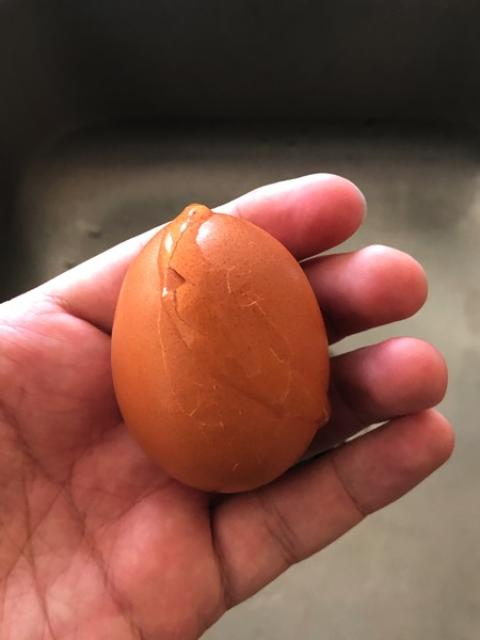Roto: (109, 202, 332, 494)
